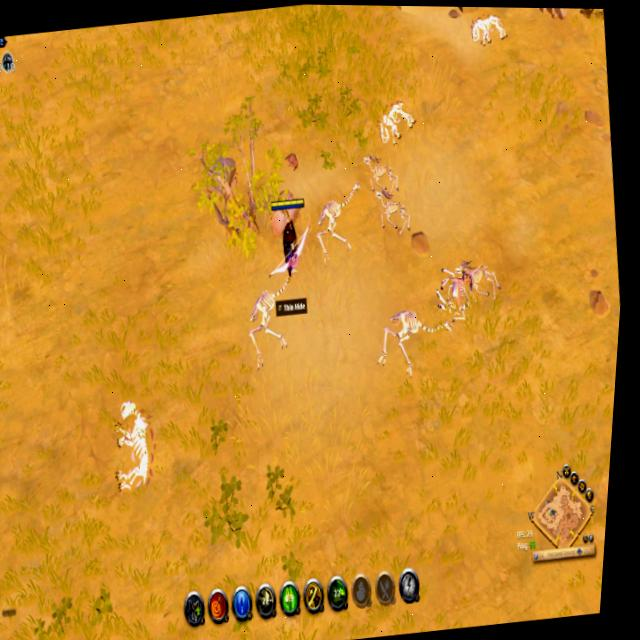mob: (431, 261, 477, 317)
red: (262, 191, 313, 277)
